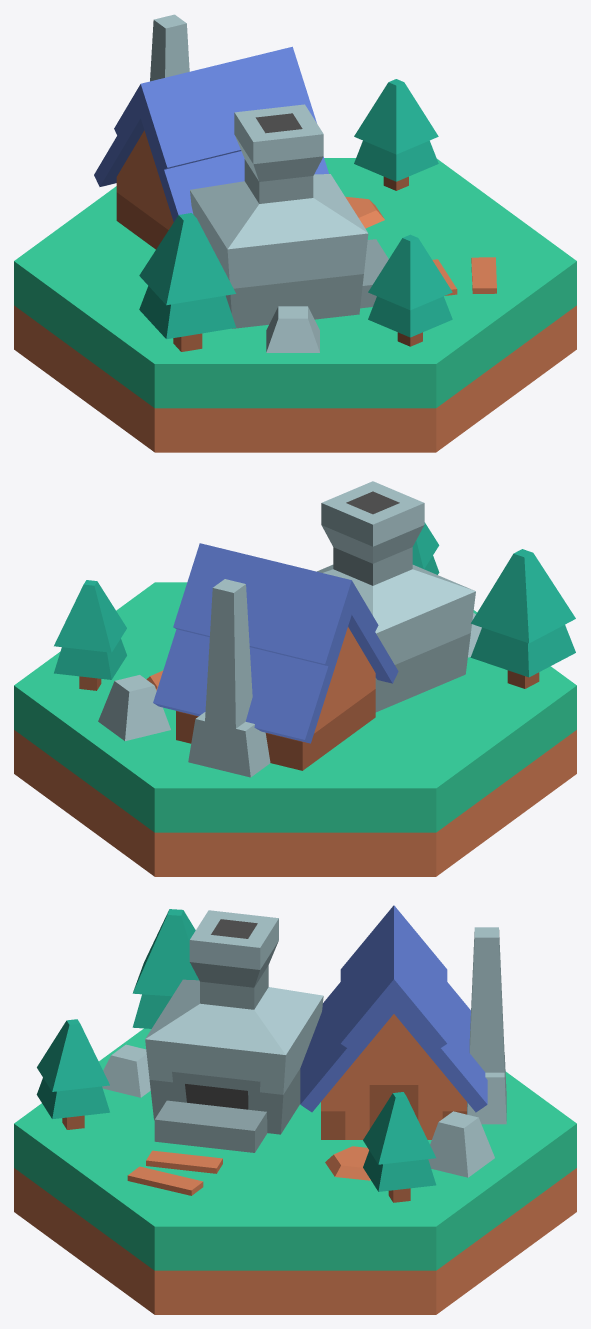
Rendered from building_smelter.dae.
3 renders of one model, top to bottom at view 1: azimuth 30°, elevation 25°; view 2: azimuth 150°, elevation 25°; view 3: azimuth 270°, elevation 25°, orthographic.
Parts seen in each view (by area): view 1: building_smelter, furnace, building, tree (×3), rock, chimney, path (×2); view 2: building_smelter, building, furnace, tree (×3), chimney, rock; view 3: building_smelter, furnace, building, tree (×3), chimney, rock (×2), path (×2).
Boxes of the visible parts, x1,y1,x2,y2 form: building_smelter: (14,158,576,452); furnace: (190,104,388,328); building: (94,46,328,249); tree (×3): (139,79,452,351); rock: (266,306,319,352); chimney: (150,14,189,81); path (×2): (345,196,496,295); building_smelter: (14,582,576,876); building: (153,543,398,770); furnace: (317,481,475,712); tree (×3): (54,522,575,690); chimney: (188,579,270,777); rock: (98,675,170,740); building_smelter: (14,1028,576,1314); furnace: (145,910,323,1152); building: (300,905,487,1139); tree (×3): (36,909,436,1202); chimney: (467,927,506,1124); rock (×2): (102,1044,494,1177); path (×2): (127,1146,370,1195).
Bounding box in the file's own units: 1 × 0.6 × 1.15.
